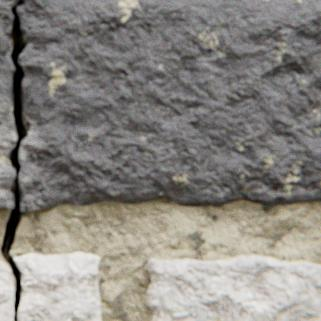brick: (146, 253, 320, 320)
broken_brick: (16, 0, 320, 209), (13, 251, 100, 320), (0, 0, 18, 208), (0, 260, 15, 320)
crack: (0, 0, 28, 320)
